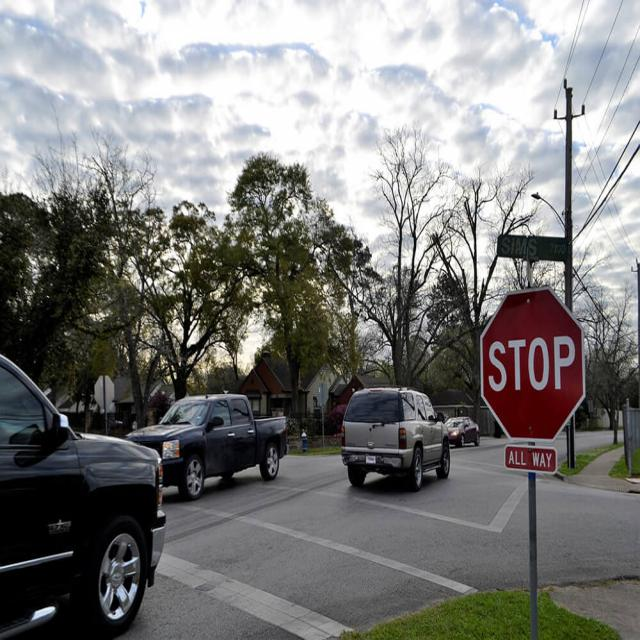stop: (480, 283, 584, 443)
